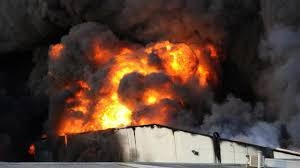fire: (63, 34, 217, 128)
